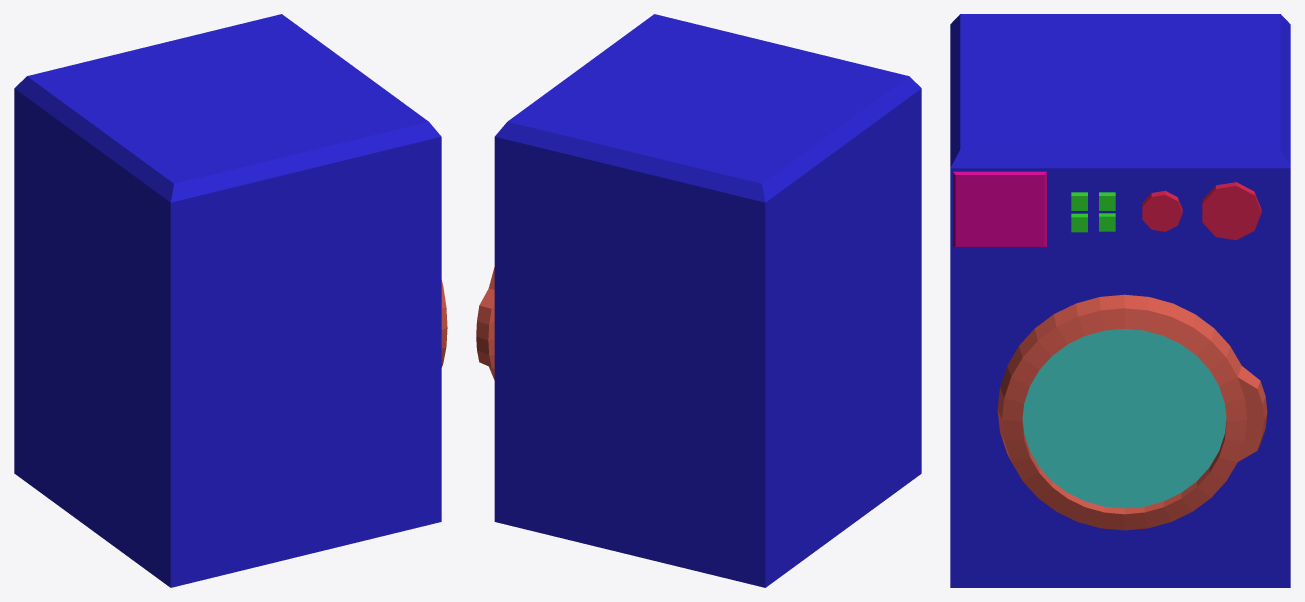
File: Pralka.fbx
The picture shows the model from 3 angles, left to right: view 1: azimuth 30°, elevation 25°; view 2: azimuth 150°, elevation 25°; view 3: azimuth 270°, elevation 25°; orthographic projection. The views are drawn at different scales.
Parts seen in each view (by area): view 1: Cube; view 2: Cube; view 3: Cube.
Part boxes in pixels (x1=…): Cube: x1=14, y1=14, x2=447, y2=587; Cube: x1=476, y1=14, x2=921, y2=587; Cube: x1=950, y1=14, x2=1290, y2=587.
Size of the model in its own units: 254 by 318 by 226.
